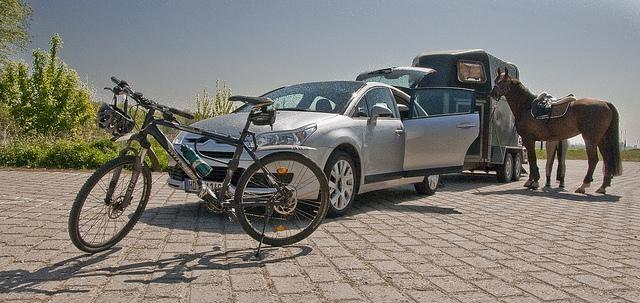bicycle: (70, 75, 328, 259)
car: (189, 80, 482, 220)
